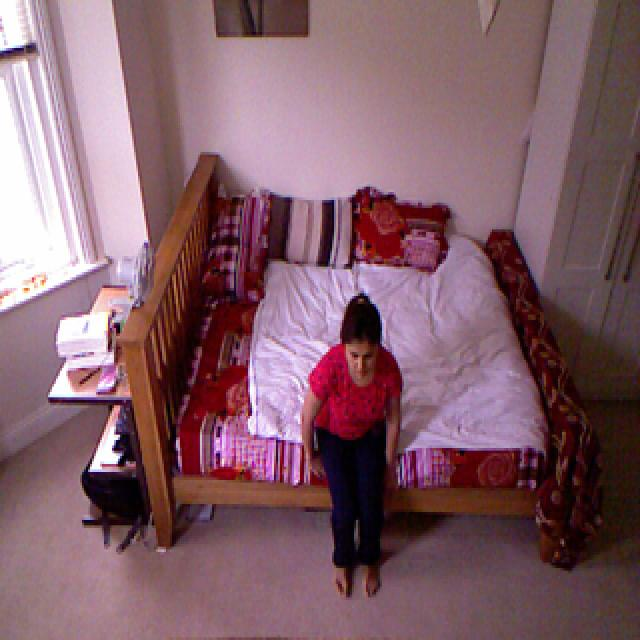sitting: (300, 285, 419, 612)
